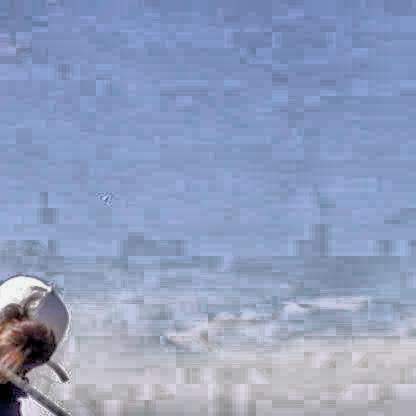golfball: (99, 192, 107, 199)
